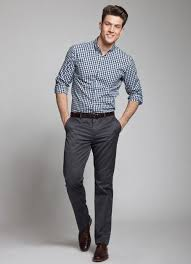F_belt: (66, 108, 121, 122)
F_dress pants: (61, 117, 122, 249)
